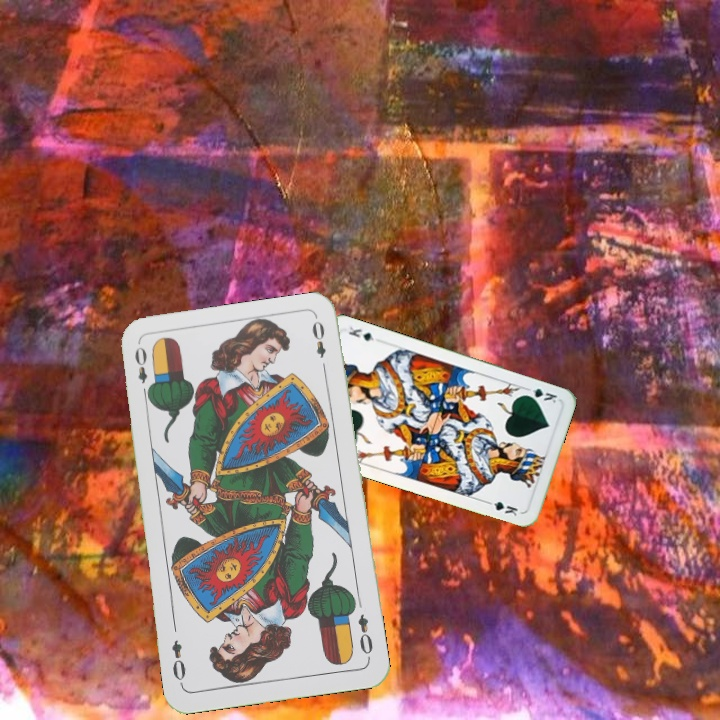EO: (130, 342, 154, 401), (354, 610, 376, 662)
GK: (520, 384, 560, 406)
